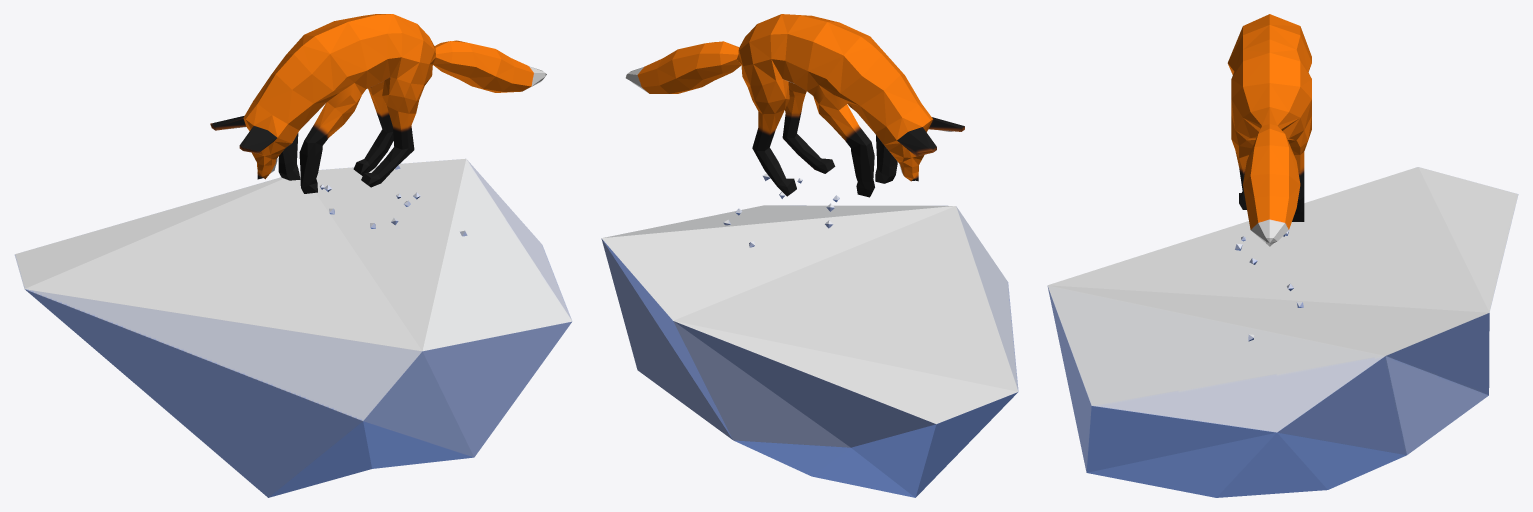
File: liska_skace.glb
The picture shows the model from 3 angles, left to right: view 1: azimuth 30°, elevation 25°; view 2: azimuth 150°, elevation 25°; view 3: azimuth 270°, elevation 25°; orthographic projection. The views are drawn at different scales.
Visible parts, largest first — view 1: snow_snow_0, fox_fox_0; view 2: snow_snow_0, fox_fox_0; view 3: snow_snow_0, fox_fox_0.
Boxes of the visible parts, bbox=[...] form: snow_snow_0: bbox=[14, 158, 572, 497]; fox_fox_0: bbox=[210, 14, 546, 193]; snow_snow_0: bbox=[601, 173, 1018, 497]; fox_fox_0: bbox=[625, 14, 964, 197]; snow_snow_0: bbox=[1047, 167, 1518, 497]; fox_fox_0: bbox=[1227, 14, 1311, 246].
Bounding box in the file's own units: 0.4726 × 0.4493 × 0.3843.
Materials: 2 (2 with a texture image).
